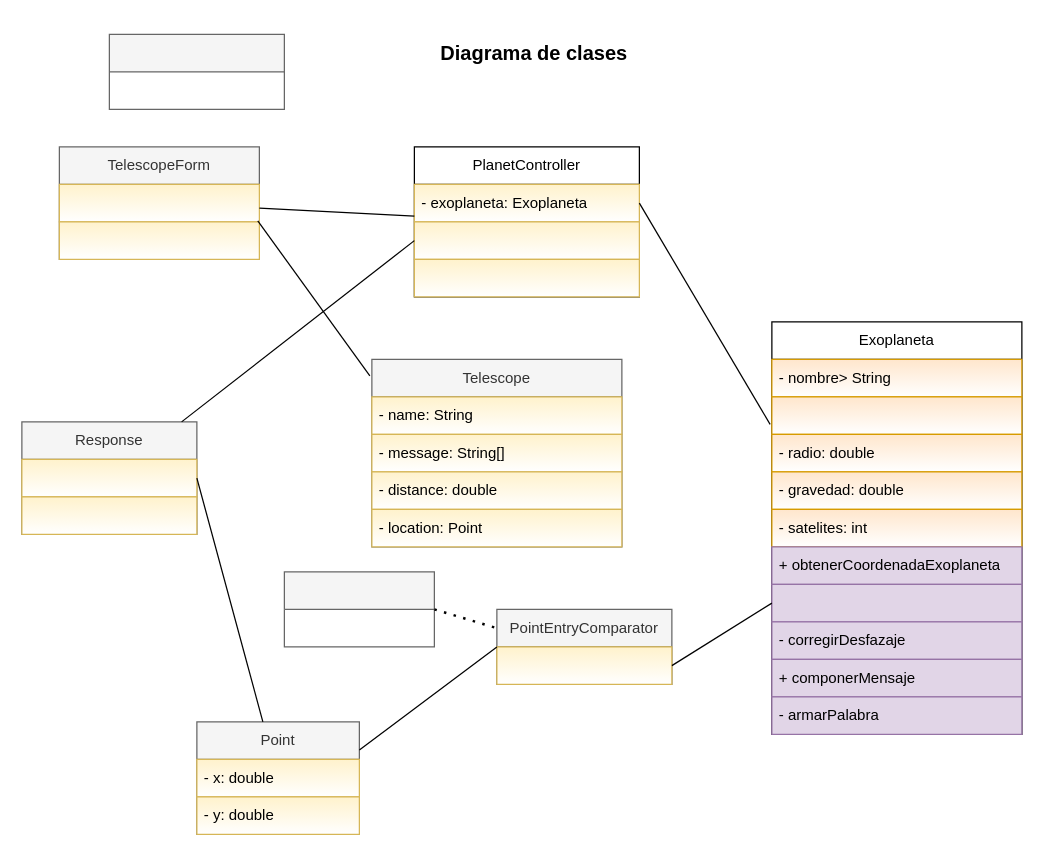
Image size: 1044x856. Some labels were removed from this diagram. Here are the shapes that lost their labels. From the top down, the centre of each, then its label:
At (196,71): "PlanetApplication".
At (158,202): "- telescopes: Telescope[]".
At (158,240): "- satellites: Telescope[]".
At (526,240): "+ exoplaneta()".
At (526,277): "+ exoplanetaUpdate()".
At (896,415): "- masa: String".
At (109,477): "- position: Point".
At (109,515): "- message: String".
At (358,609): "Comparator".
At (896,602): "- interseccionCirculo".
At (584,665): "+ compare".
